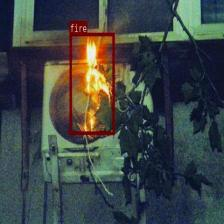fire: (69, 32, 114, 134)
